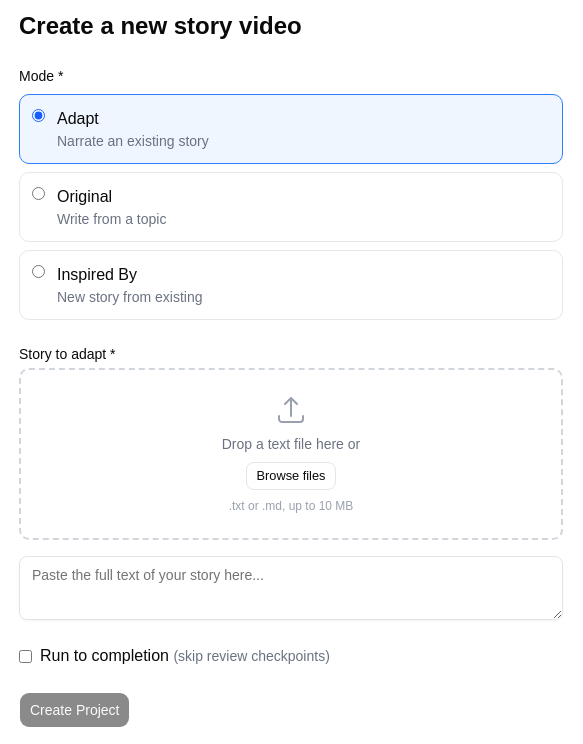
UnifiedProjectPage - Creation mode › shows error for duration outside valid range
The width and height of the screenshot is (583, 744).
Expected: the radio button labelled "Adapt Narrate an existing story" is shown, top-left (32, 109), bottom-right (45, 122)
Click the radio button labelled "Original Write from a topic". click: [38, 194]
box: top-left (32, 187), bottom-right (45, 200)
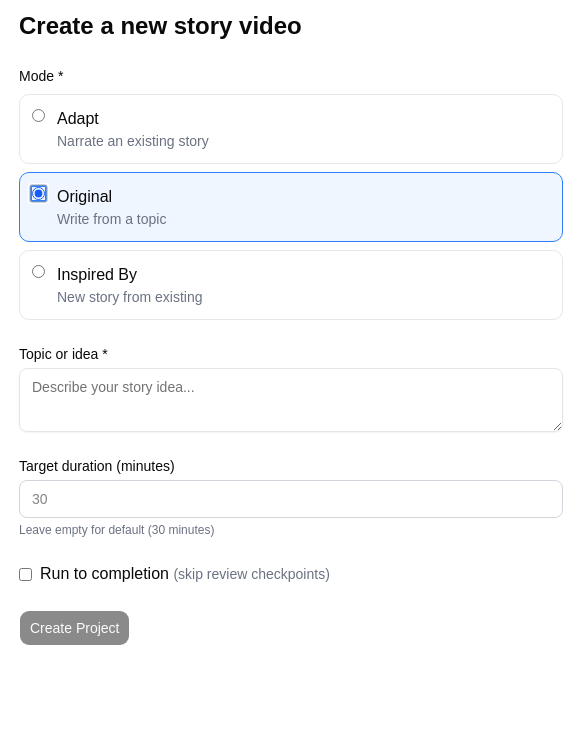
Type "A story" into the text box labelled "Topic or idea *". click: [291, 400]
box: top-left (19, 368), bottom-right (563, 432)
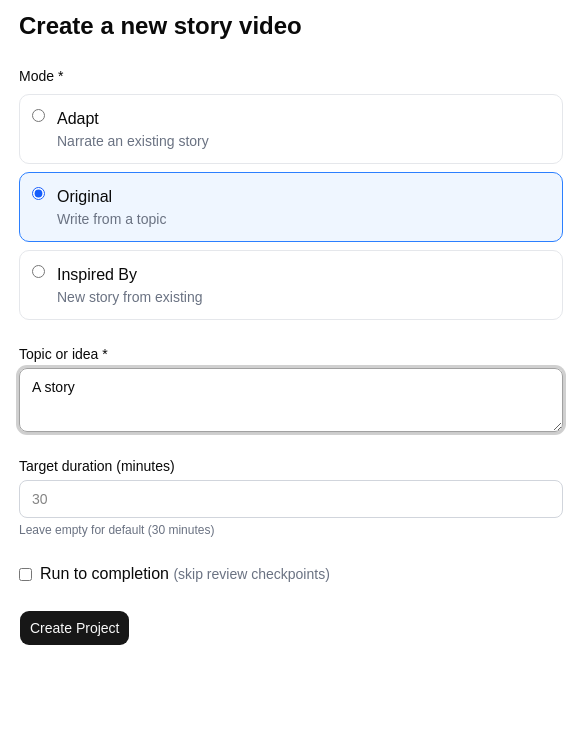
Type "200" into the number field labelled "Target duration (minutes)". click: [291, 499]
box: top-left (19, 480), bottom-right (563, 518)
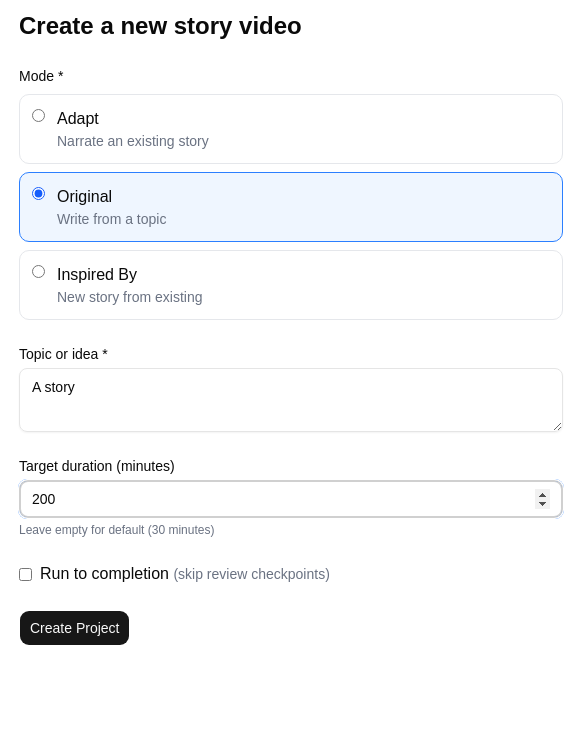
Click the button "Create Project". click: [75, 628]
box: top-left (19, 610), bottom-right (130, 646)
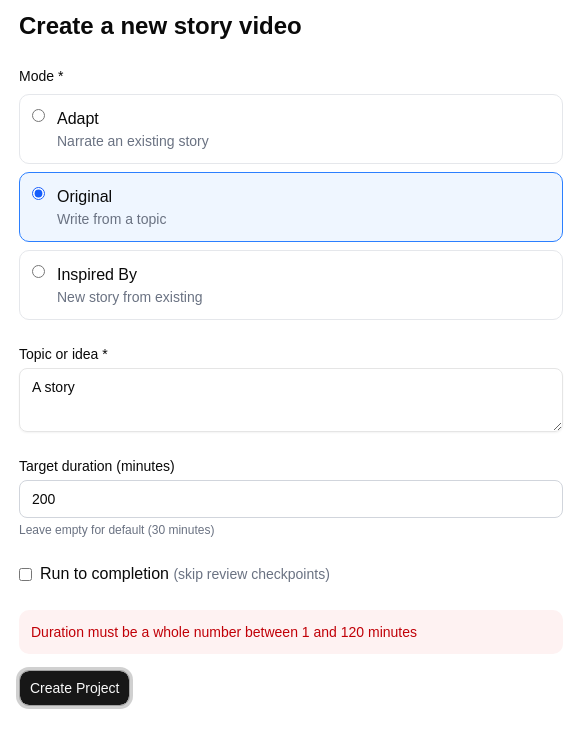
Result: the text "Duration must be a whole number between 1 and 120 minutes" is shown at top-left (19, 610), bottom-right (563, 654)
